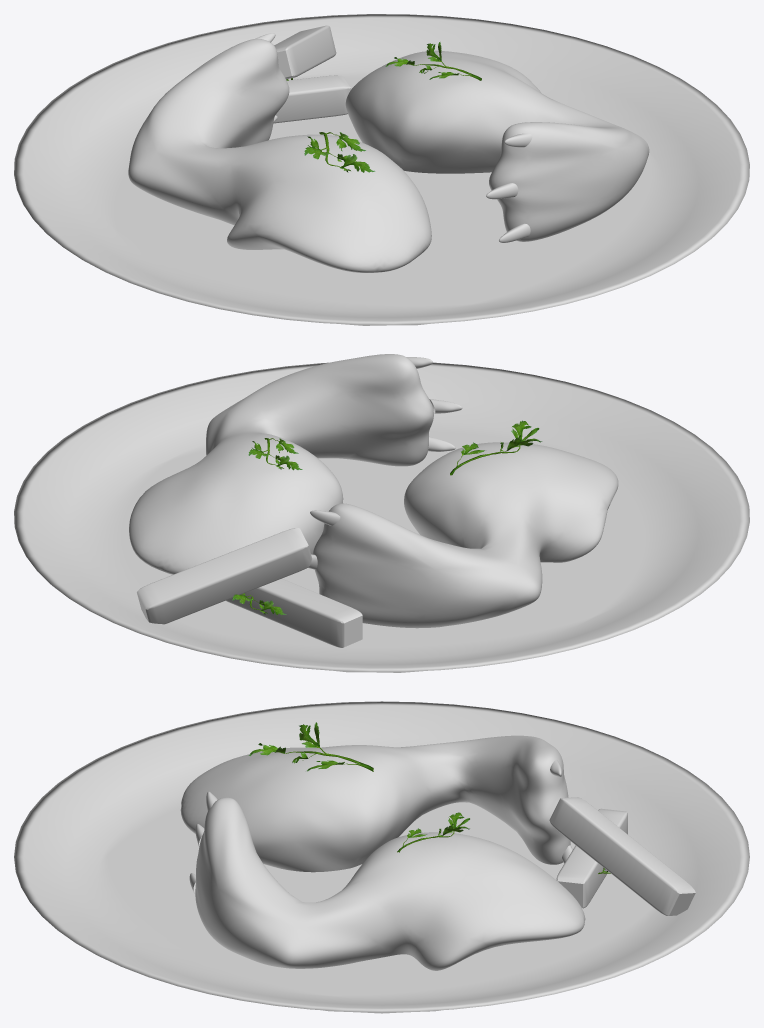
The model's file is rabbit.fbx.
3 views of the same model, one above another, from view 1: azimuth 30°, elevation 25°; view 2: azimuth 150°, elevation 25°; view 3: azimuth 270°, elevation 25° (orthographic).
Parts seen in each view (by area): view 1: mo_mesh:003__ncl1_37:003, xiangcai.001; view 2: mo_mesh:003__ncl1_37:003, xiangcai.001; view 3: mo_mesh:003__ncl1_37:003, xiangcai.001.
Part boxes in pixels (bbox=[...]): mo_mesh:003__ncl1_37:003: bbox=[14, 14, 749, 325]; xiangcai.001: bbox=[286, 42, 481, 172]; mo_mesh:003__ncl1_37:003: bbox=[14, 354, 749, 672]; xiangcai.001: bbox=[232, 420, 542, 615]; mo_mesh:003__ncl1_37:003: bbox=[14, 701, 749, 1013]; xiangcai.001: bbox=[248, 722, 610, 873].
Bounding box in the file's own units: 187 × 36.37 × 187.
